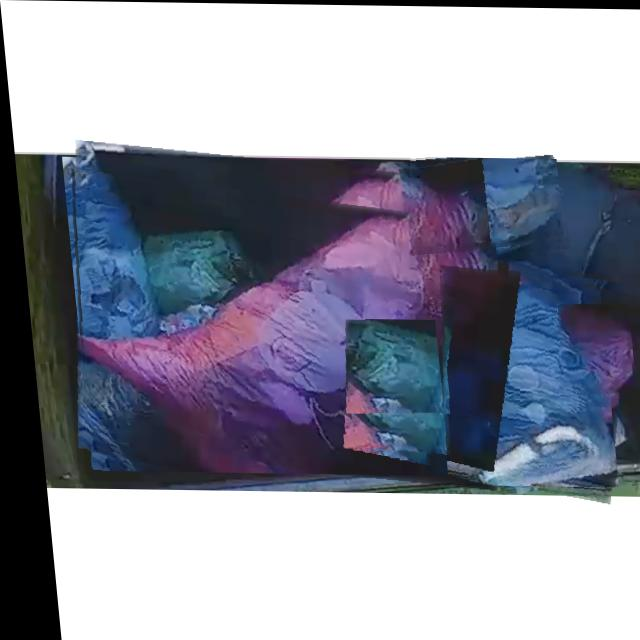other_trashbag: (74, 203, 494, 473), (433, 271, 608, 484), (406, 156, 556, 249), (339, 318, 432, 410), (551, 302, 626, 390)
